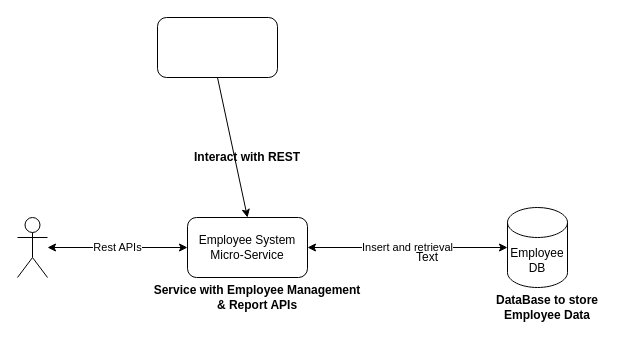
Image size: 625x339. Some labels were removed from this diagram. The centre of each missing label's shape, as x and y in pixels:
"Actor" goes at point 32,247.
"External services" goes at point 217,47.
